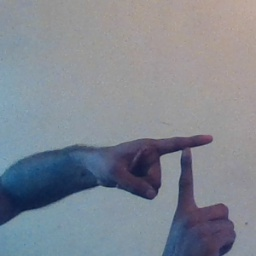T: (120, 121, 238, 240)
